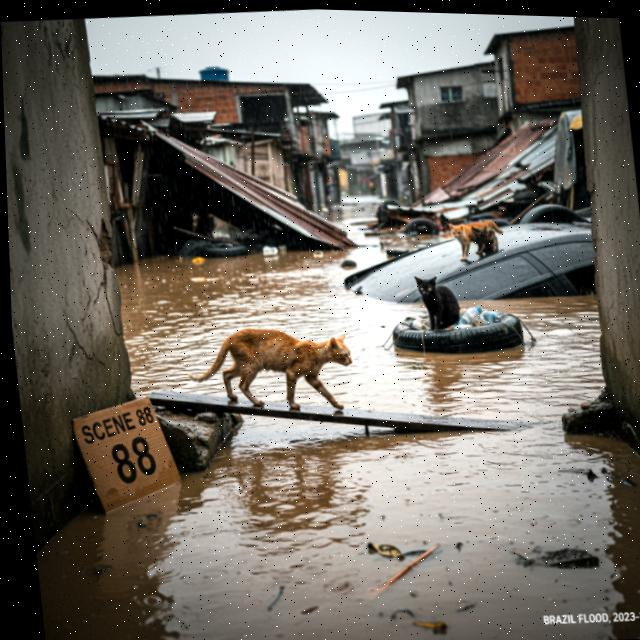cat: (184, 307, 361, 426), (405, 266, 466, 336), (446, 215, 507, 268), (469, 217, 505, 263)
